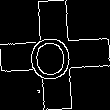O_N: (32, 28, 78, 82)
